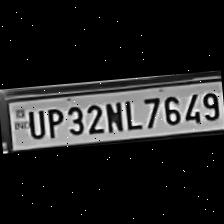2: (82, 100, 105, 136)
3: (62, 102, 85, 138)
4: (179, 90, 201, 124)
6: (159, 92, 181, 128)
7: (138, 94, 162, 130)
9: (198, 88, 222, 123)
L: (122, 96, 142, 130)
N: (103, 98, 125, 134)
P: (44, 104, 66, 140)
U: (24, 106, 46, 140)
